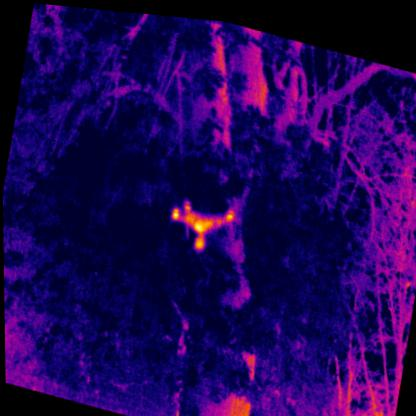drone: (164, 188, 236, 254)
